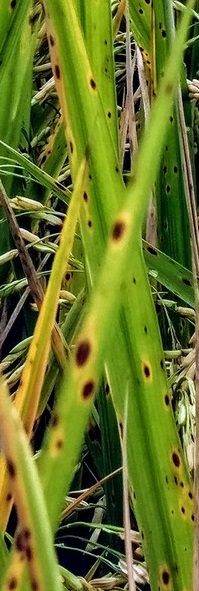Bercak Coklat: (68, 330, 97, 372), (133, 353, 162, 390), (72, 374, 102, 406), (105, 217, 132, 248), (154, 563, 179, 591), (162, 442, 186, 469), (51, 59, 71, 90), (85, 75, 111, 95), (76, 186, 97, 209), (153, 391, 172, 412)
